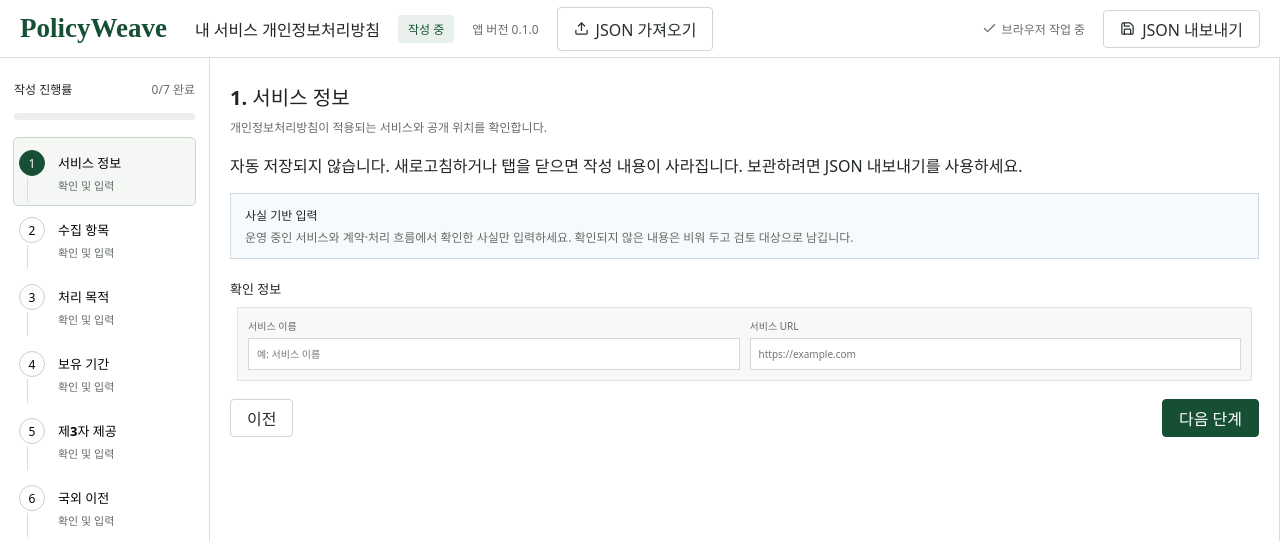
Test case: policy editing workflow › 미리보기 처리 목적 경고에서 처리 목적 단계로 이동한다
The image size is (1280, 541).
Click the button "2 수집 항목 확인 및 입력".
click(104, 238)  # box [14, 205, 195, 272]
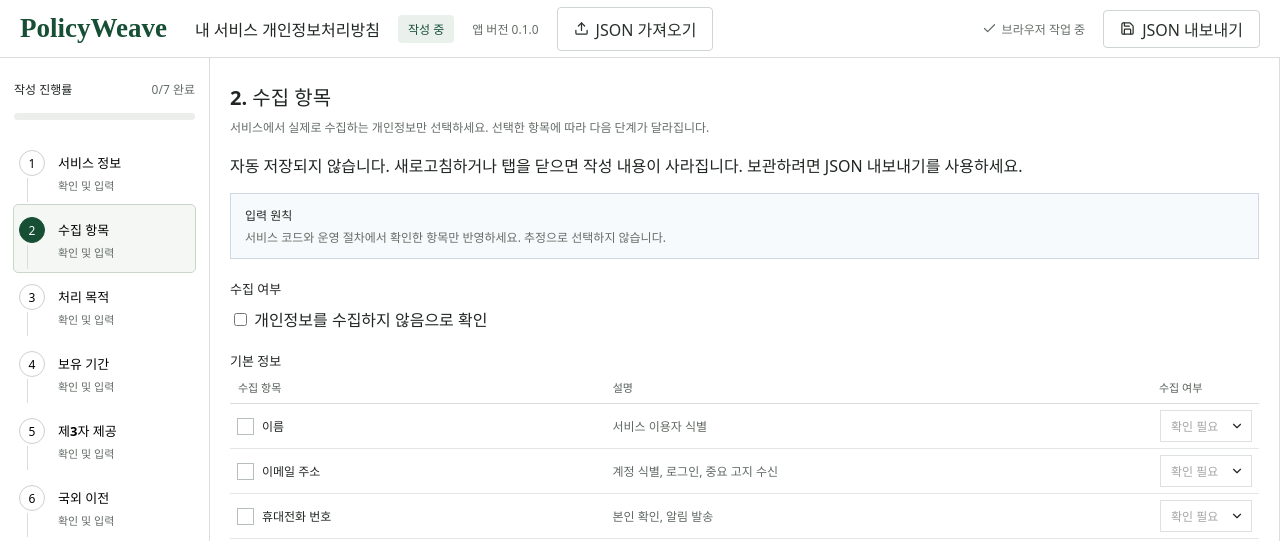
Click the checkbox labelled "휴대전화 번호".
click(284, 516)  # box [237, 508, 331, 525]
(page scrolled)
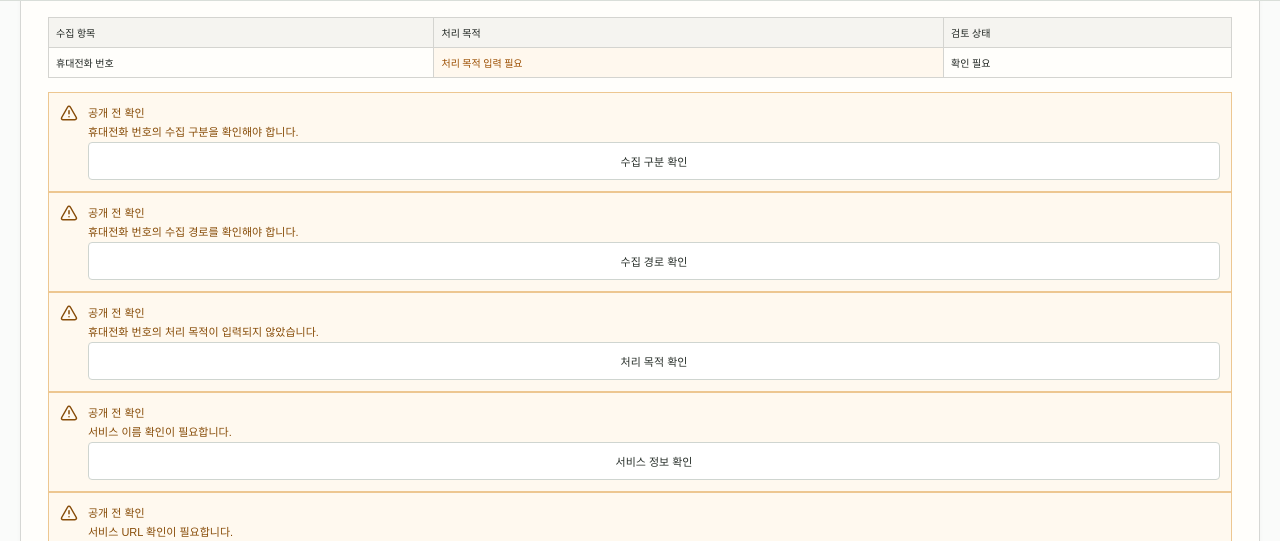
Click the button "처리 목적 확인".
click(654, 361)  # box [88, 342, 1220, 380]
(page scrolled)
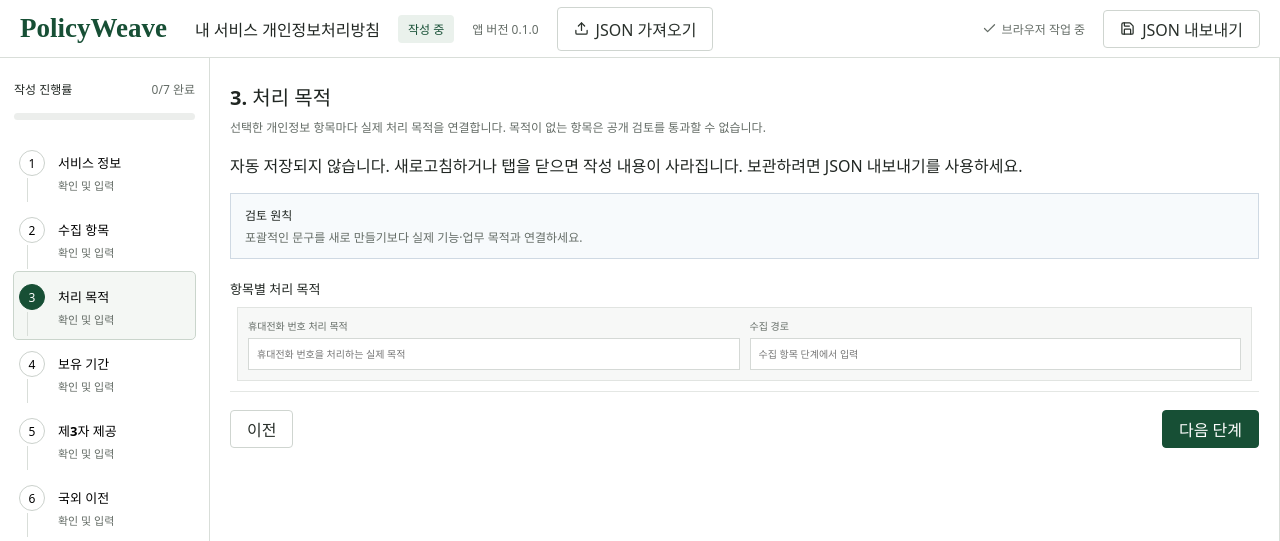
expect the heading "3. 처리 목적" is shown: met, box [230, 84, 331, 111]
